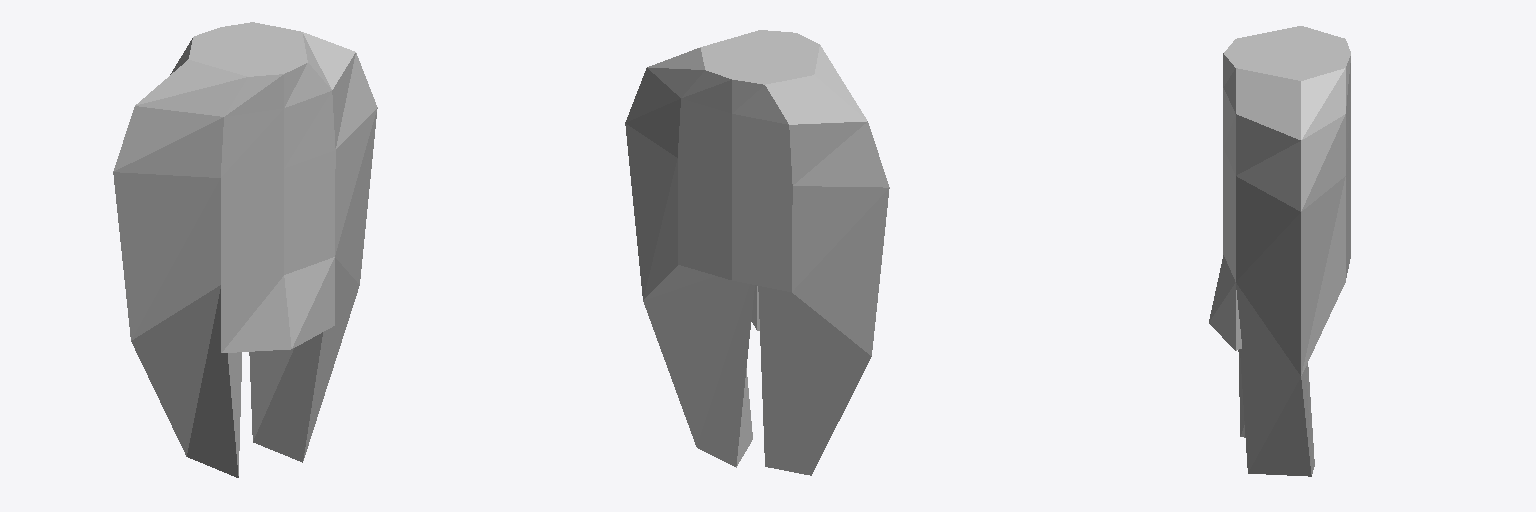
The model's file is testMale_Collider.obj.
3 renders of one model, left to right at view 1: azimuth 30°, elevation 25°; view 2: azimuth 150°, elevation 25°; view 3: azimuth 270°, elevation 25°, orthographic.
Visible parts, largest first — view 1: pCylinder1; view 2: pCylinder1; view 3: pCylinder1.
Part boxes in pixels (bbox=[...]): pCylinder1: bbox=[113, 22, 377, 477]; pCylinder1: bbox=[625, 30, 889, 475]; pCylinder1: bbox=[1209, 26, 1350, 476].
Bounding box in the file's own units: 3.3 × 4.83 × 1.54.